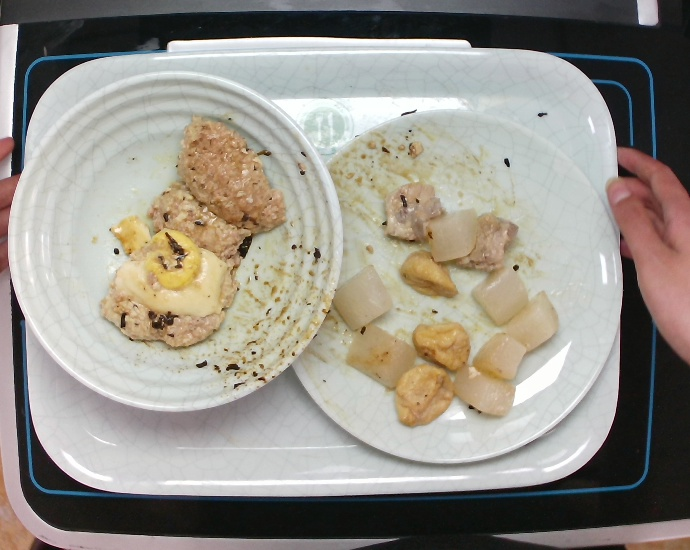JYsf-Da_Tang_Wan: (5, 71, 349, 413)
JYsf-Da_Yuan_Pan: (280, 104, 626, 468)
